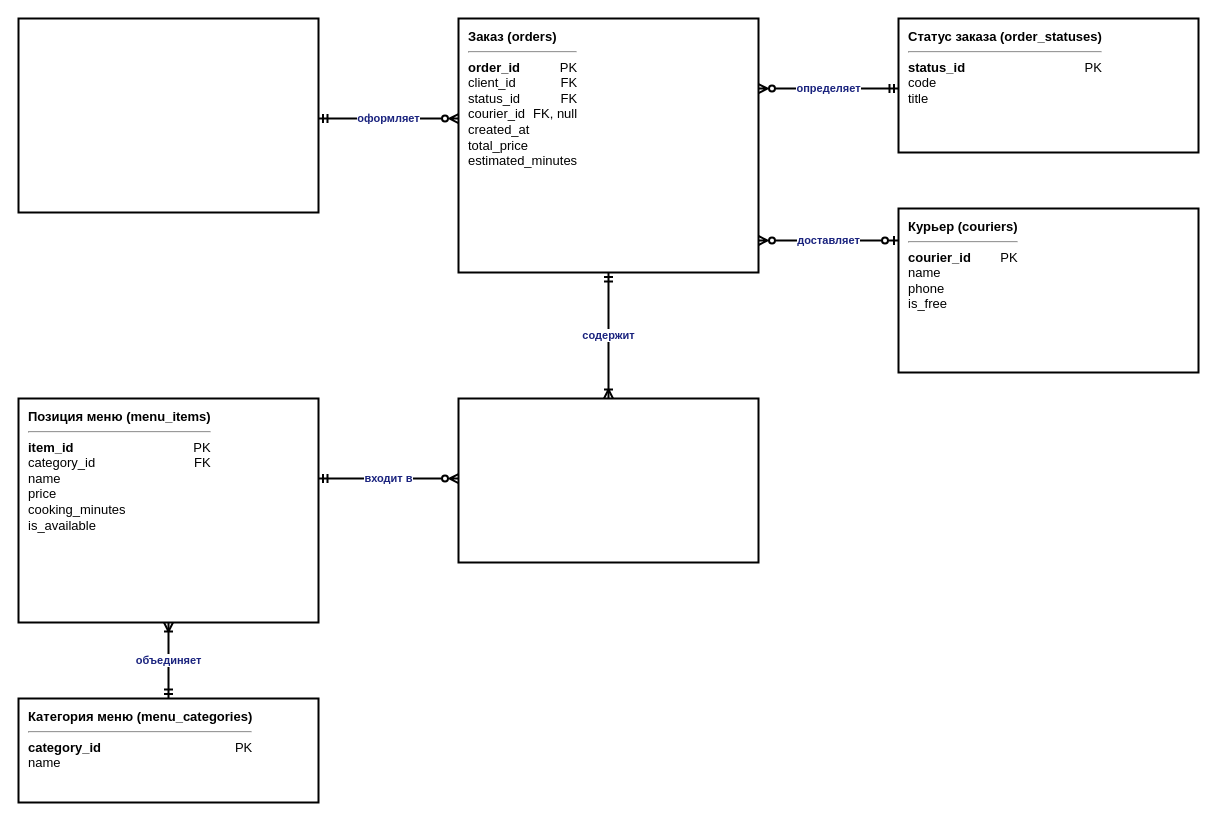
Image size: 1216x820. Some labels were removed from this diagram. The centre of each missing label's shape, as x and y in pixels:
"Клиент (clients) client_id PK telegram_id AK name phone registered_at" belongs at point (168, 115).
"Позиция заказа (order_lines) order_id PK, FK item_id PK, FK quantity unit_price" belongs at point (608, 480).
